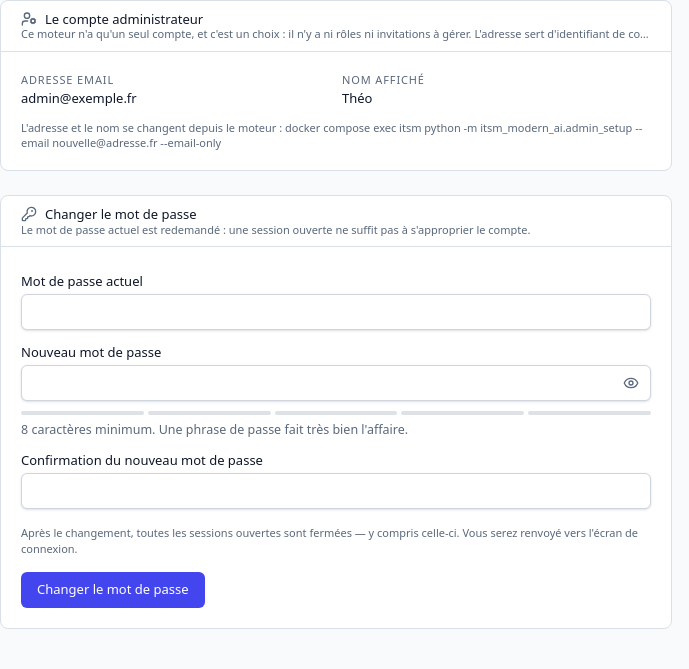
Test: Account — compte & sécurité › exige le mot de passe actuel
Type "n0uveau-mot-de-passe" into the password field labelled "Nouveau mot de passe" at (336,383), box [21,365,651,401]
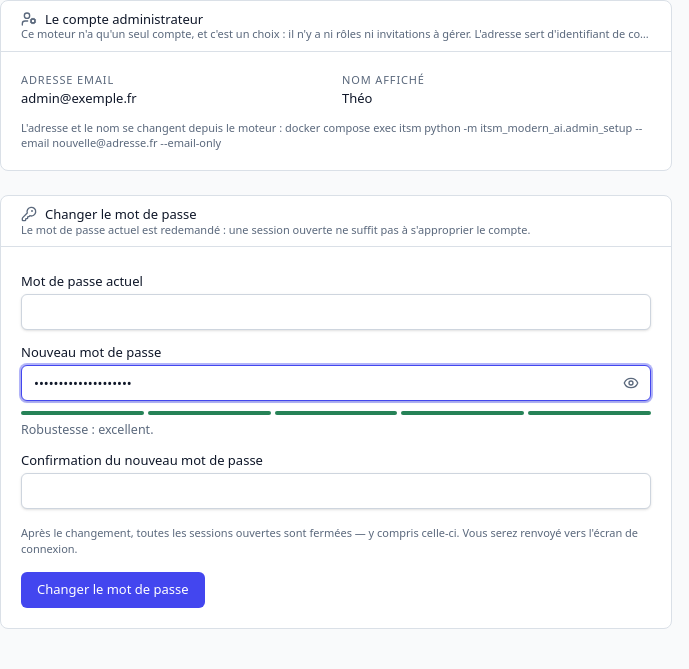
Type "n0uveau-mot-de-passe" into the password field labelled "Confirmation du nouveau mot de passe" at (336,491), box [21,473,651,509]
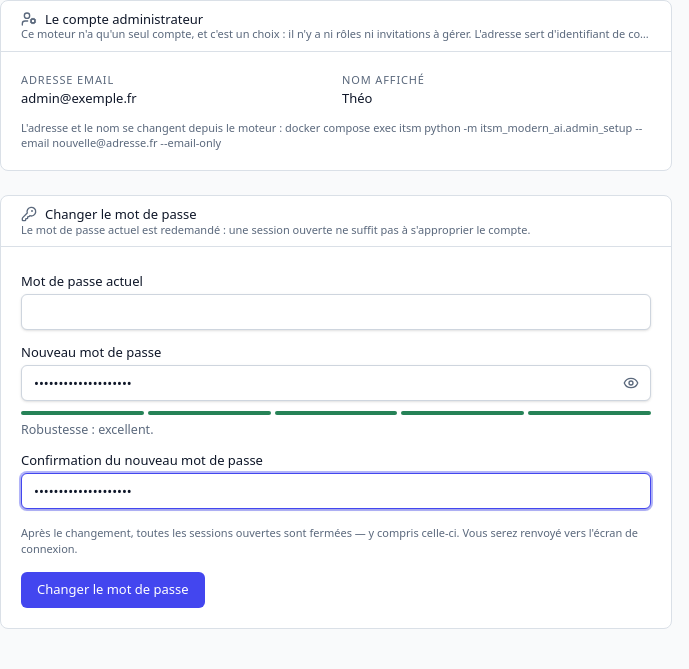
Click the button "Changer le mot de passe" at (113,590), box [21,572,205,608]
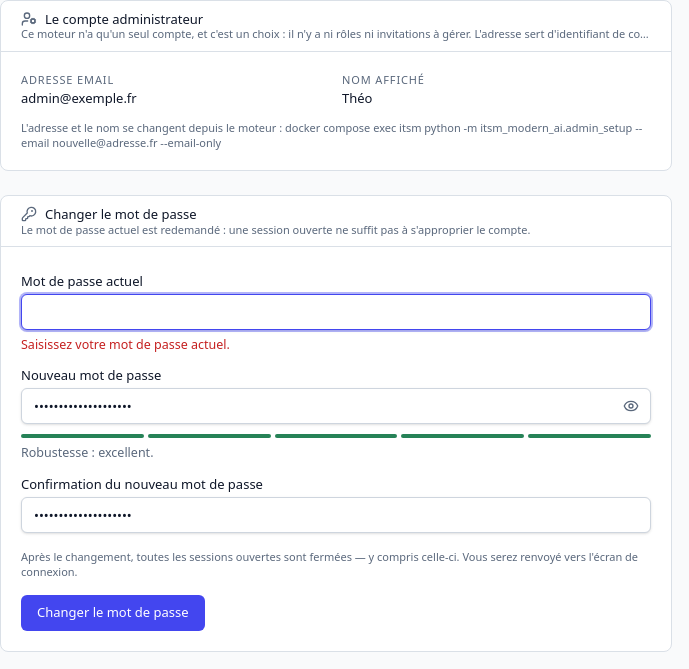
Result: the text "Saisissez votre mot de passe actuel." is shown at [21,336,230,353]
